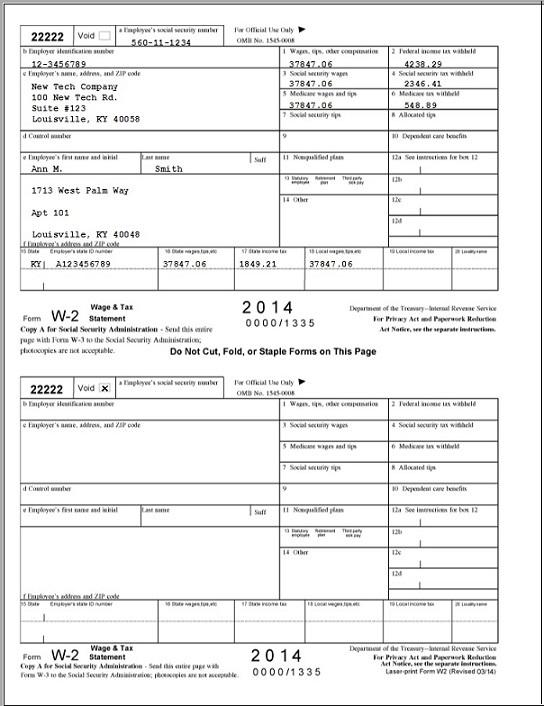checkbox: (96, 28, 113, 43), (96, 381, 113, 396)
textbox: (17, 171, 283, 250), (17, 522, 283, 601), (17, 417, 283, 489), (18, 64, 283, 135), (18, 43, 282, 70), (18, 128, 282, 155), (18, 396, 282, 423), (17, 480, 281, 507), (276, 189, 390, 250), (19, 244, 163, 273), (17, 596, 161, 625), (137, 149, 281, 177), (136, 500, 280, 528), (18, 149, 143, 177), (18, 501, 143, 529), (277, 44, 391, 71), (277, 64, 391, 91), (277, 85, 391, 112), (386, 43, 500, 70), (387, 66, 501, 93), (387, 85, 501, 112), (387, 106, 501, 133), (387, 128, 501, 155), (276, 106, 390, 133), (277, 150, 391, 177), (387, 150, 501, 177), (387, 171, 501, 198), (387, 191, 501, 218), (387, 212, 501, 239), (277, 171, 391, 198), (277, 395, 391, 422), (388, 395, 502, 422), (387, 416, 501, 443), (278, 417, 392, 444), (276, 438, 390, 465), (386, 437, 500, 464), (386, 458, 500, 485), (277, 460, 391, 487), (277, 481, 391, 508), (388, 481, 502, 508), (277, 501, 391, 528), (389, 503, 503, 530), (277, 522, 391, 549), (387, 523, 501, 550), (386, 544, 500, 571), (387, 566, 501, 593), (113, 23, 225, 50), (301, 596, 387, 625), (154, 245, 237, 272), (227, 244, 310, 271), (304, 245, 387, 272), (155, 597, 238, 624), (232, 597, 309, 626), (381, 244, 455, 272), (381, 595, 455, 623), (449, 595, 503, 624), (449, 244, 501, 270), (386, 502, 427, 529), (385, 563, 422, 591), (386, 190, 423, 218), (387, 169, 424, 197), (387, 149, 424, 177), (16, 244, 53, 272), (245, 148, 282, 176), (245, 501, 282, 529), (384, 209, 421, 237), (386, 521, 423, 549), (384, 541, 421, 569)
